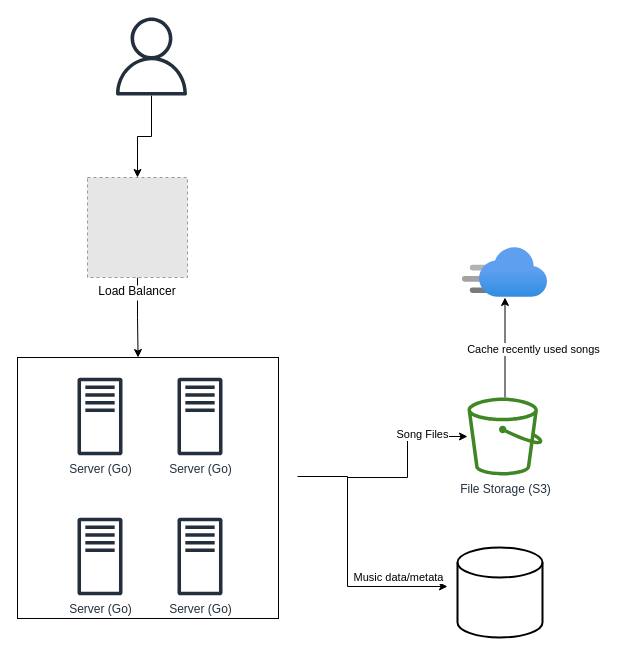
The diagram is 617 pixels wide and 655 high, and some of its shapes have lost their labels. Grey dashed boxes stand in for pictures. Here are the shapes that lost their labels. From the top down, the box of each, then its label:
(112, 17, 190, 95): Client
(462, 247, 547, 297): CDN
(456, 546, 543, 638): Database (DynamoDB)
